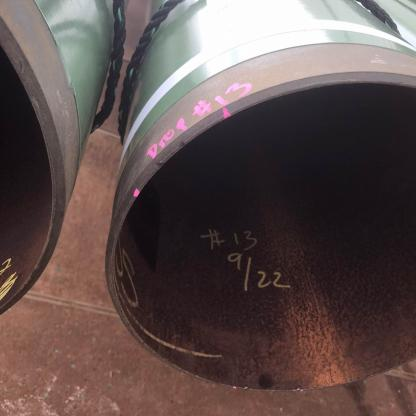Bevel: (173, 136, 194, 155), (148, 157, 165, 180)
